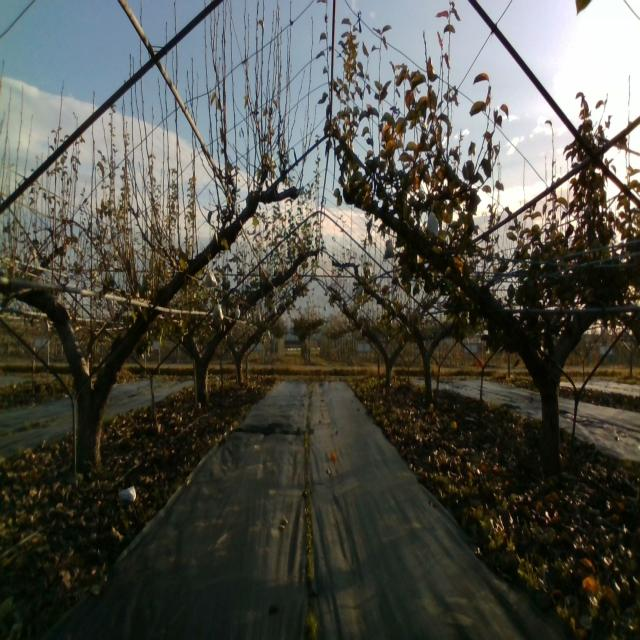pearbags: (427, 203, 440, 237), (212, 298, 223, 323), (205, 268, 218, 288)
